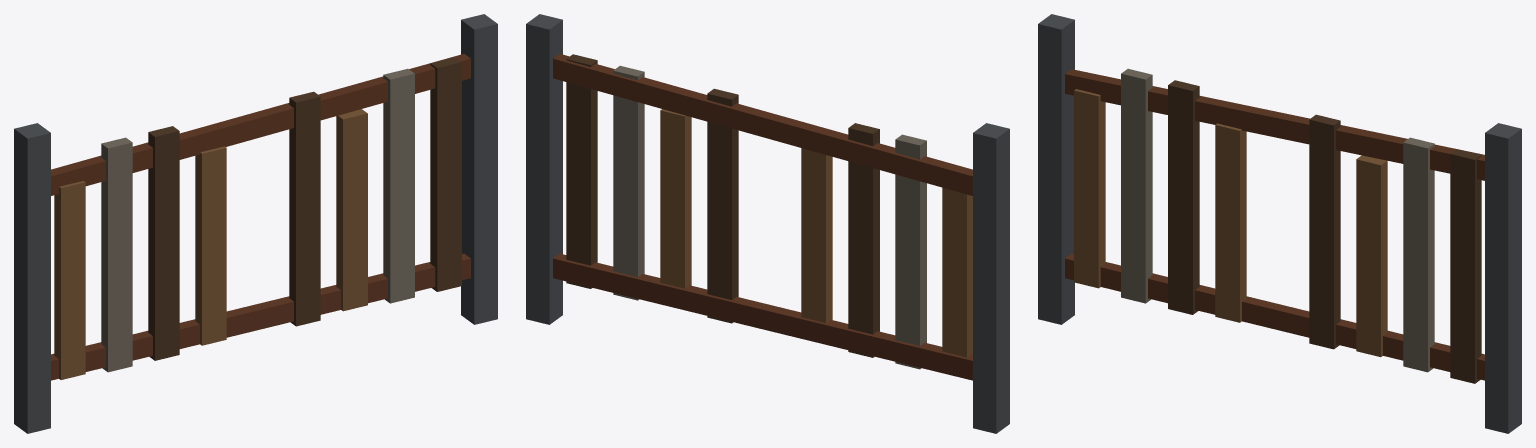
File: piece_fence_damaged.fbx
3 views of the same model, side by side, from view 1: azimuth 30°, elevation 25°; view 2: azimuth 150°, elevation 25°; view 3: azimuth 330°, elevation 25° (orthographic).
Visible parts, largest first — view 1: piece_fence_damaged; view 2: piece_fence_damaged; view 3: piece_fence_damaged.
Part boxes in pixels (x1,y1,x2,y2): piece_fence_damaged: (14,14,497,433); piece_fence_damaged: (526,14,1009,433); piece_fence_damaged: (1038,14,1521,433).
Size of the model in its own units: 2 by 1.2 by 0.1.
